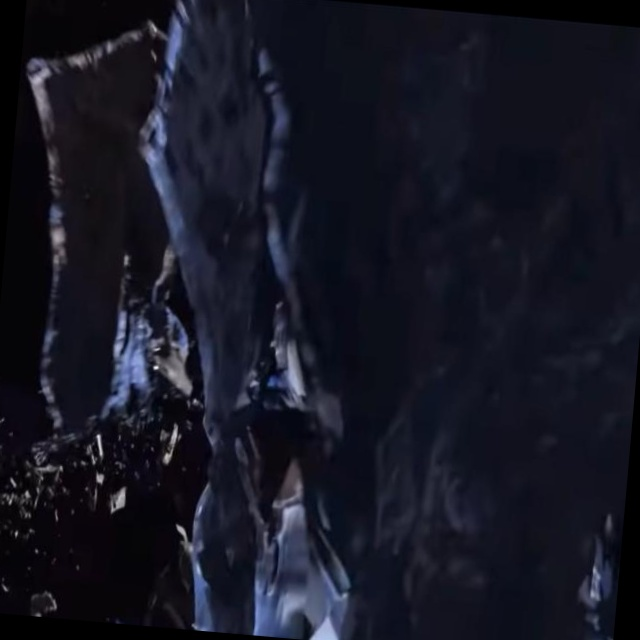large_debris: (0, 0, 409, 640), (111, 253, 201, 441), (22, 564, 68, 618), (99, 470, 135, 527)
